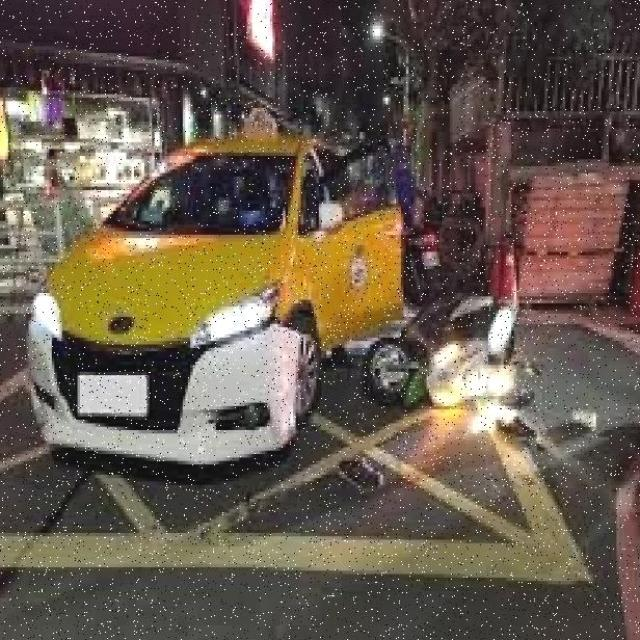accident: (343, 224, 546, 444)
